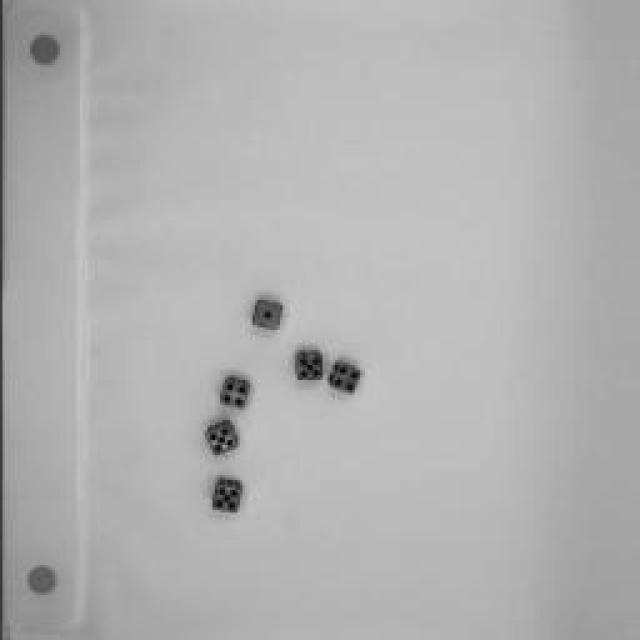dice_1: (246, 292, 289, 338)
dice_4: (324, 357, 368, 405), (213, 371, 255, 414)
dice_5: (199, 416, 241, 459), (208, 475, 248, 517), (290, 346, 328, 386)
